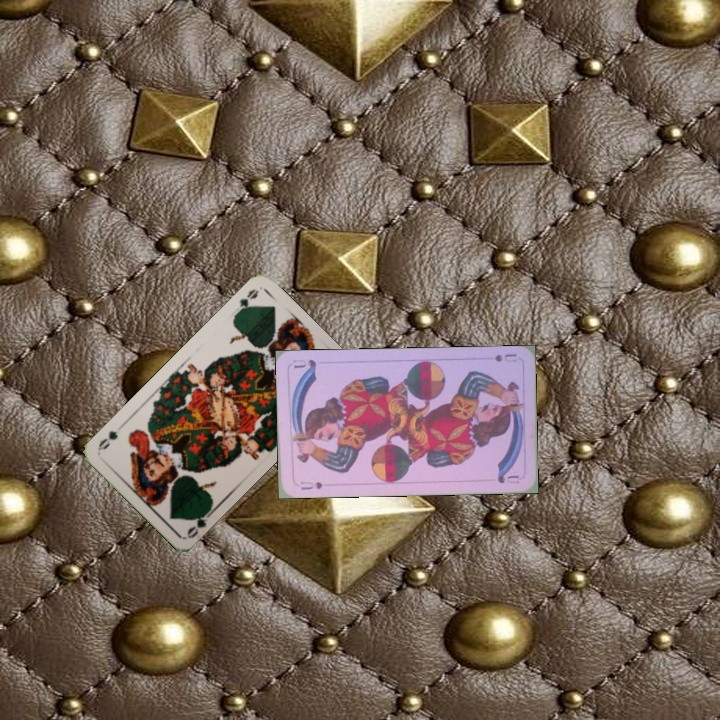GO: (183, 505, 216, 541), (231, 285, 261, 319)
SU: (490, 350, 519, 365), (297, 478, 325, 492)
